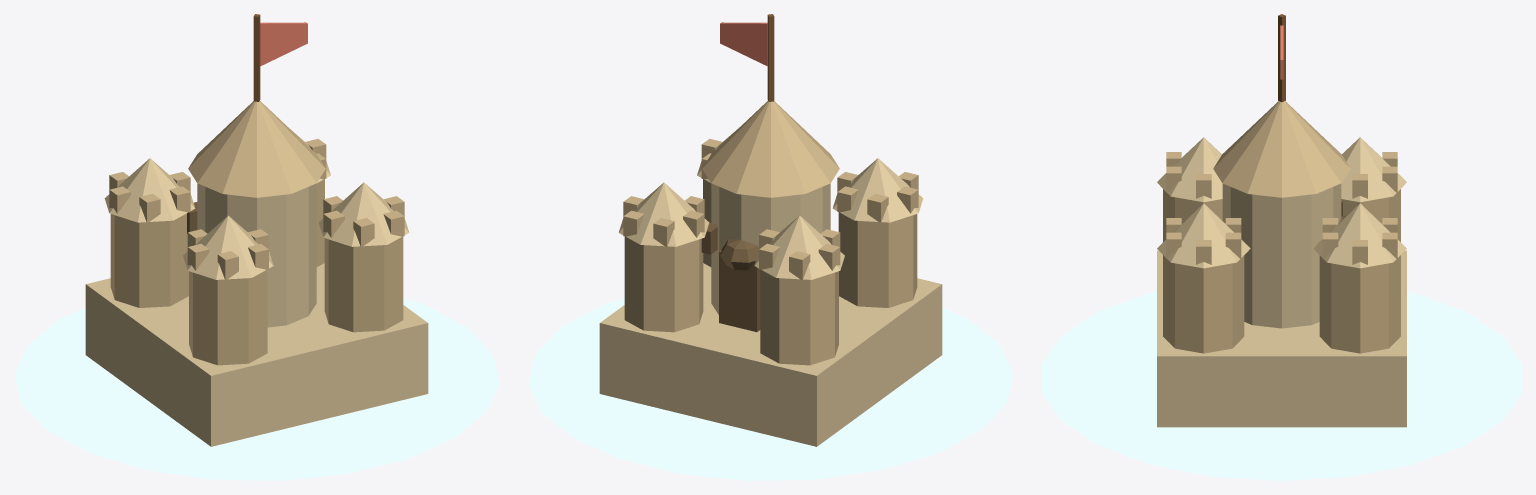
The model's file is xy_beach_sandcastle.glb.
The picture shows the model from 3 angles, left to right: view 1: azimuth 30°, elevation 25°; view 2: azimuth 150°, elevation 25°; view 3: azimuth 270°, elevation 25°; orthographic projection.
Parts seen in each view (by area): view 1: Sandcastle; view 2: Sandcastle; view 3: Sandcastle.
Part boxes in pixels (x1=…): Sandcastle: x1=14, y1=14, x2=499, y2=480; Sandcastle: x1=528, y1=14, x2=1013, y2=480; Sandcastle: x1=1042, y1=14, x2=1521, y2=480.
Bounding box in the file's own units: 3.1 × 2.56 × 3.07.
